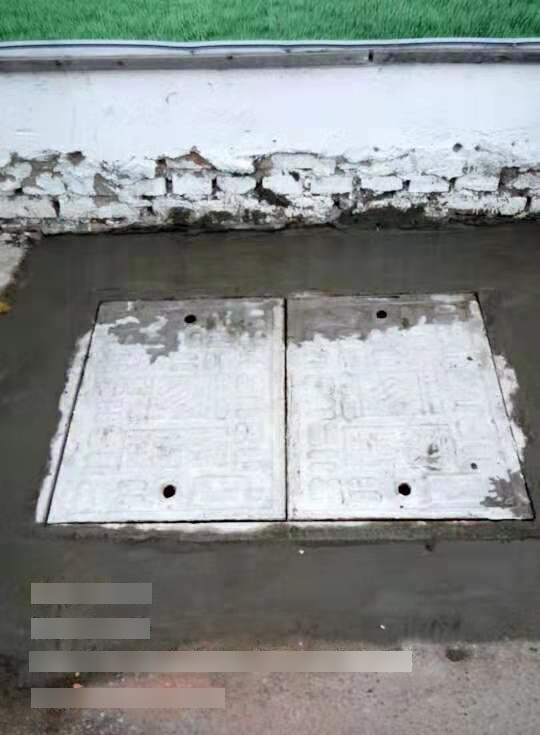good: (37, 288, 540, 537)
